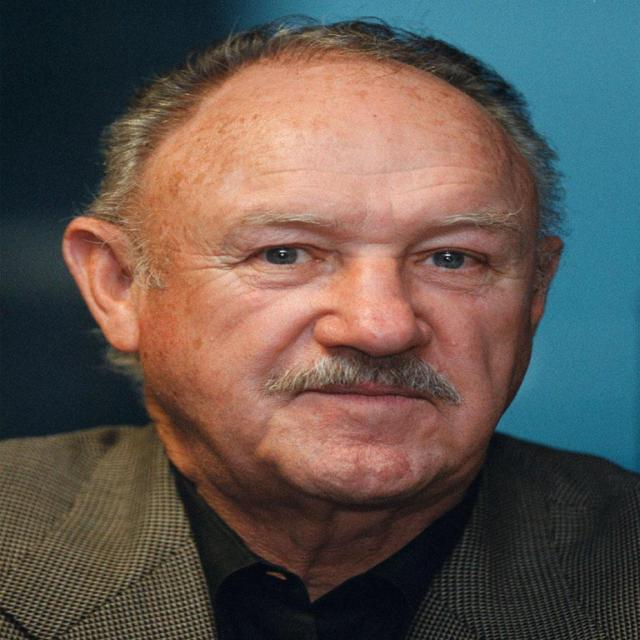no-earmuff: (36, 204, 195, 377), (519, 227, 578, 371)
